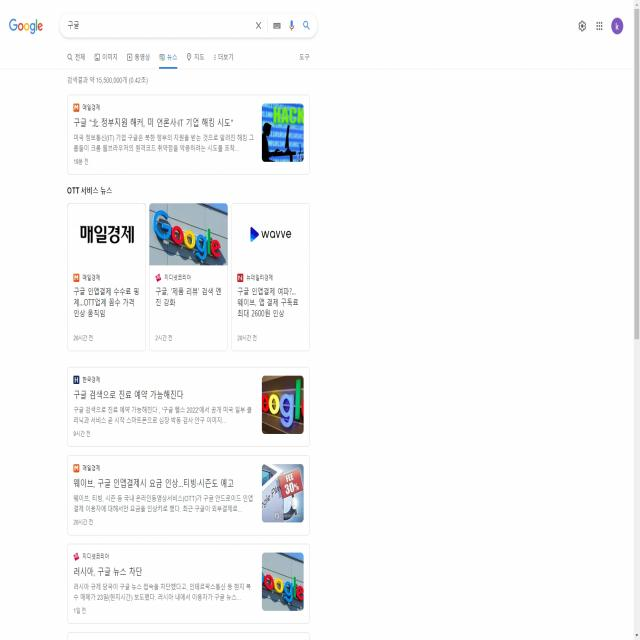menu-bar: (574, 11, 625, 38)
menu-panel: (60, 44, 318, 69)
search: (57, 8, 317, 42)
